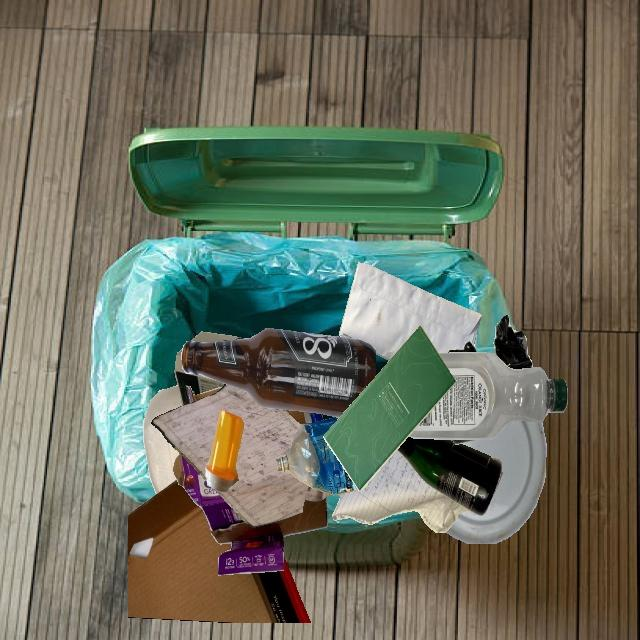cardboard: (128, 479, 310, 623), (193, 402, 289, 503), (211, 497, 328, 575), (175, 348, 225, 406), (190, 332, 246, 343)
glass: (181, 328, 376, 418), (397, 436, 502, 516)
paper: (151, 384, 331, 527), (323, 326, 456, 491), (339, 262, 482, 361), (332, 450, 468, 533)
plastic: (409, 352, 568, 439), (446, 421, 547, 544), (277, 417, 357, 495), (449, 338, 503, 439), (143, 385, 183, 494), (205, 409, 244, 493)
